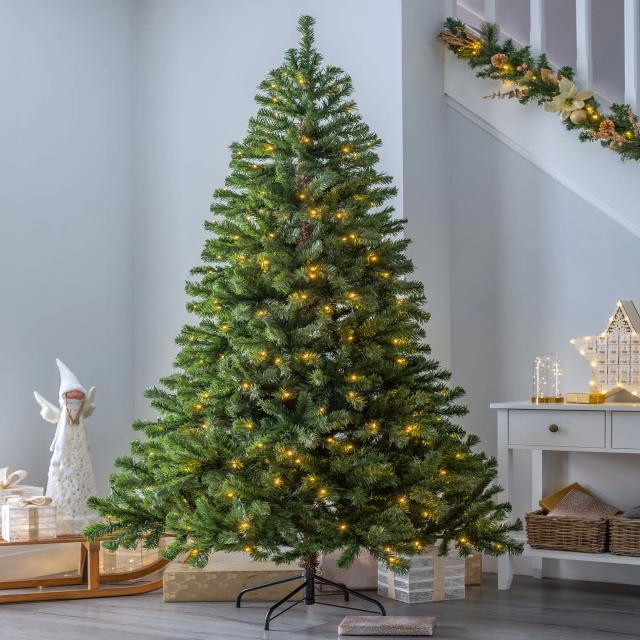Christmas-tree: (132, 13, 498, 549)
